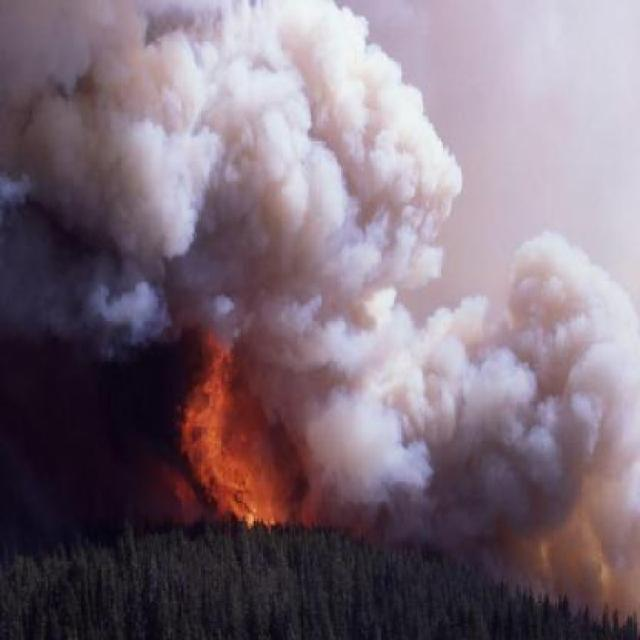Fire: (79, 291, 422, 608)
Smoke: (50, 22, 422, 274), (340, 250, 634, 498)
